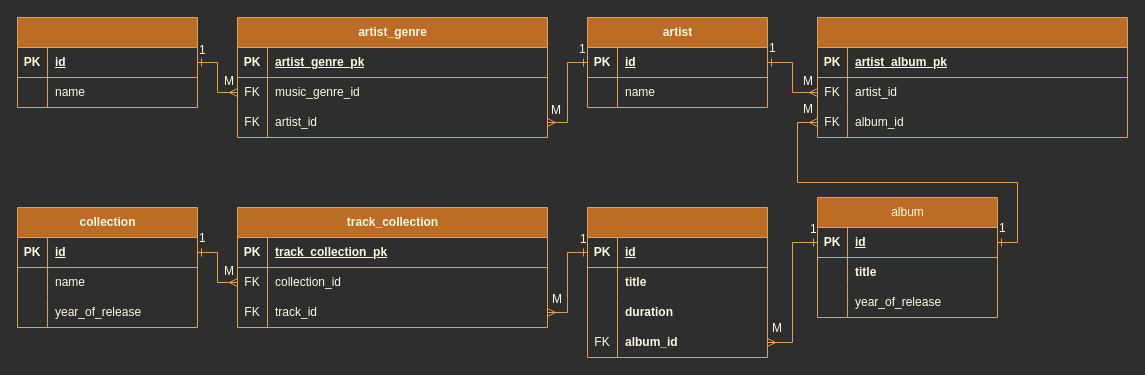
Some shapes in this 1145 by 375 pixel diagram are drawn without their labels. Here are the shapes that lost their labels. From the top down, the box of each, then its label:
(16, 16, 198, 108): music_genre
(816, 16, 1128, 138): artists_album
(586, 206, 768, 358): track
